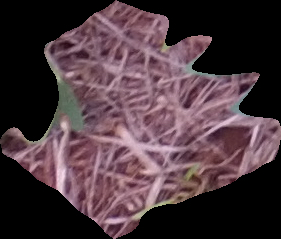soil: (1, 2, 279, 237)
